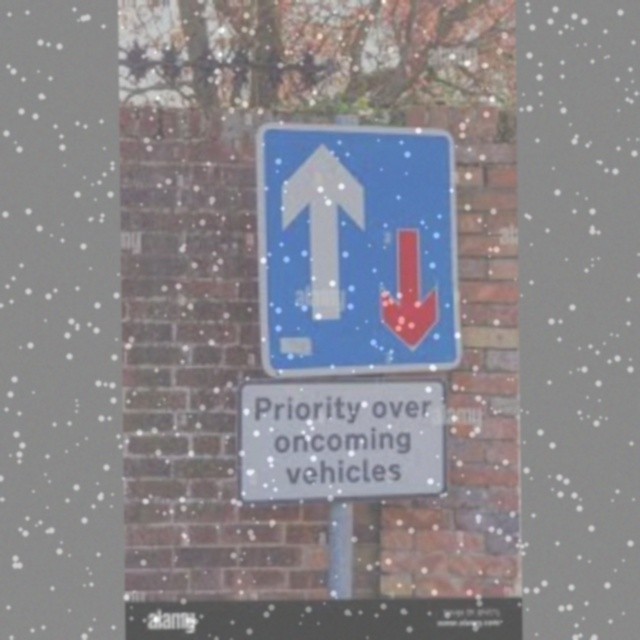Priority_for_Oncoming_Traffic: (266, 128, 458, 368)
